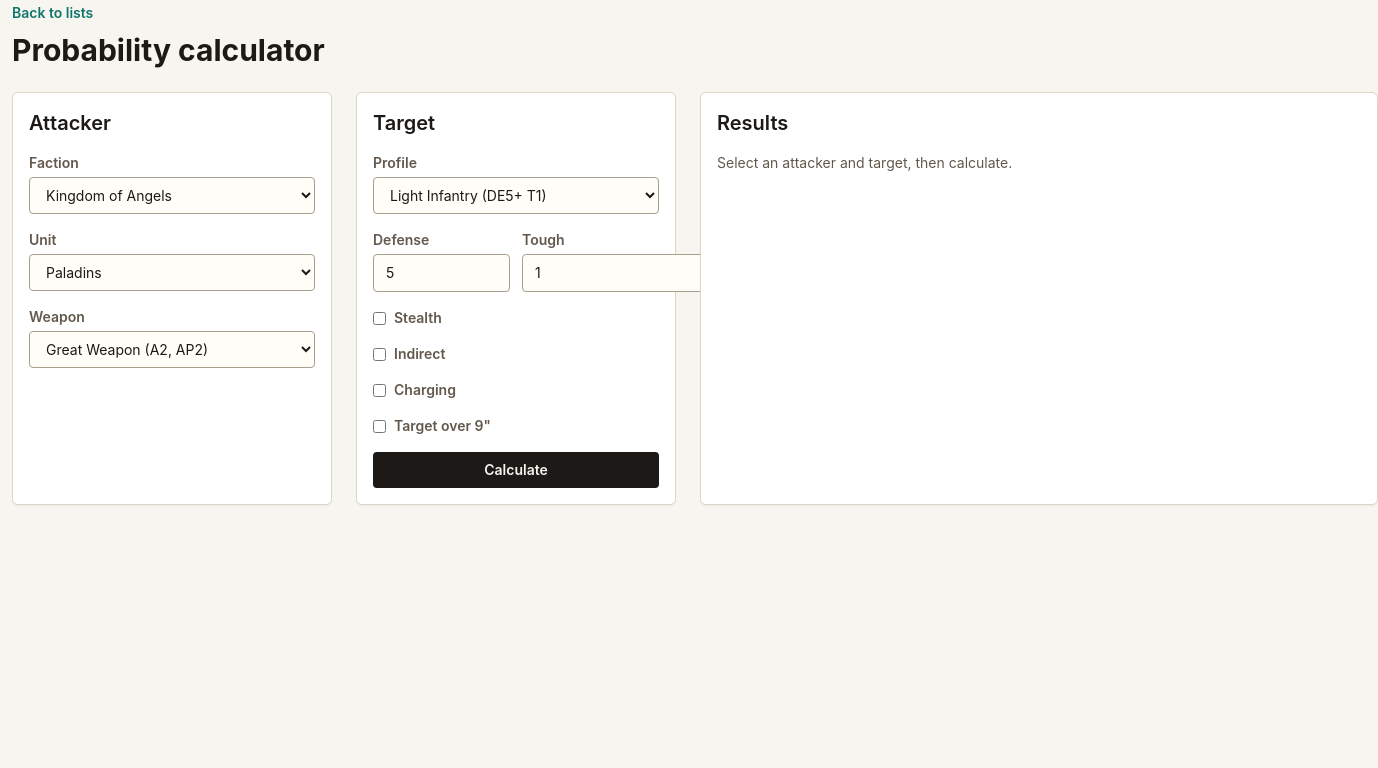
Scenario: CalcPage › calculates expected wounds for a selected attacker and target
Select "Kingdom of Angels" in the dropdown labelled "Faction" at {"x": 172, "y": 196}, box 29,177 -> 315,214
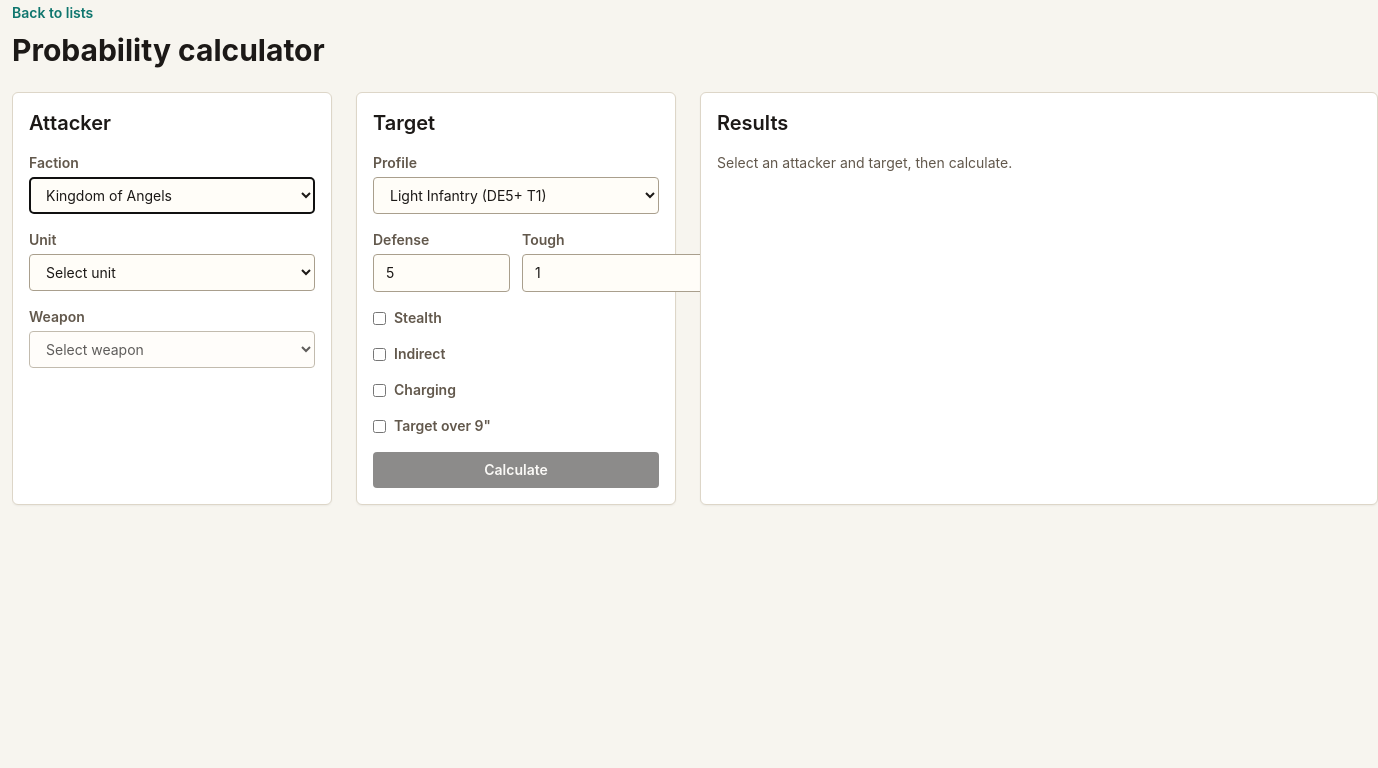
Select "Paladins" in the dropdown labelled "Unit" at {"x": 172, "y": 272}, box 29,254 -> 315,291
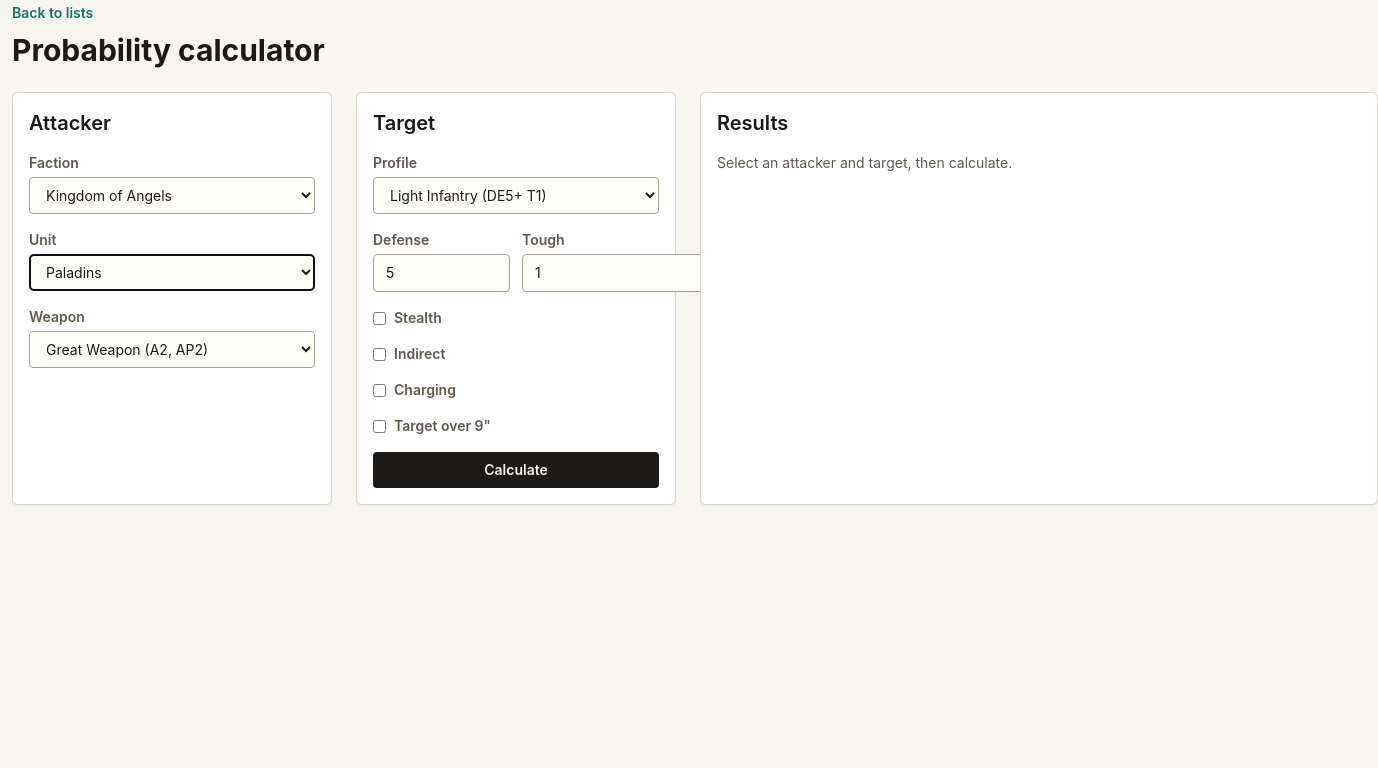
Select "Great Weapon (A2, AP2)" in the dropdown labelled "Weapon" at {"x": 172, "y": 350}, box 29,331 -> 315,368
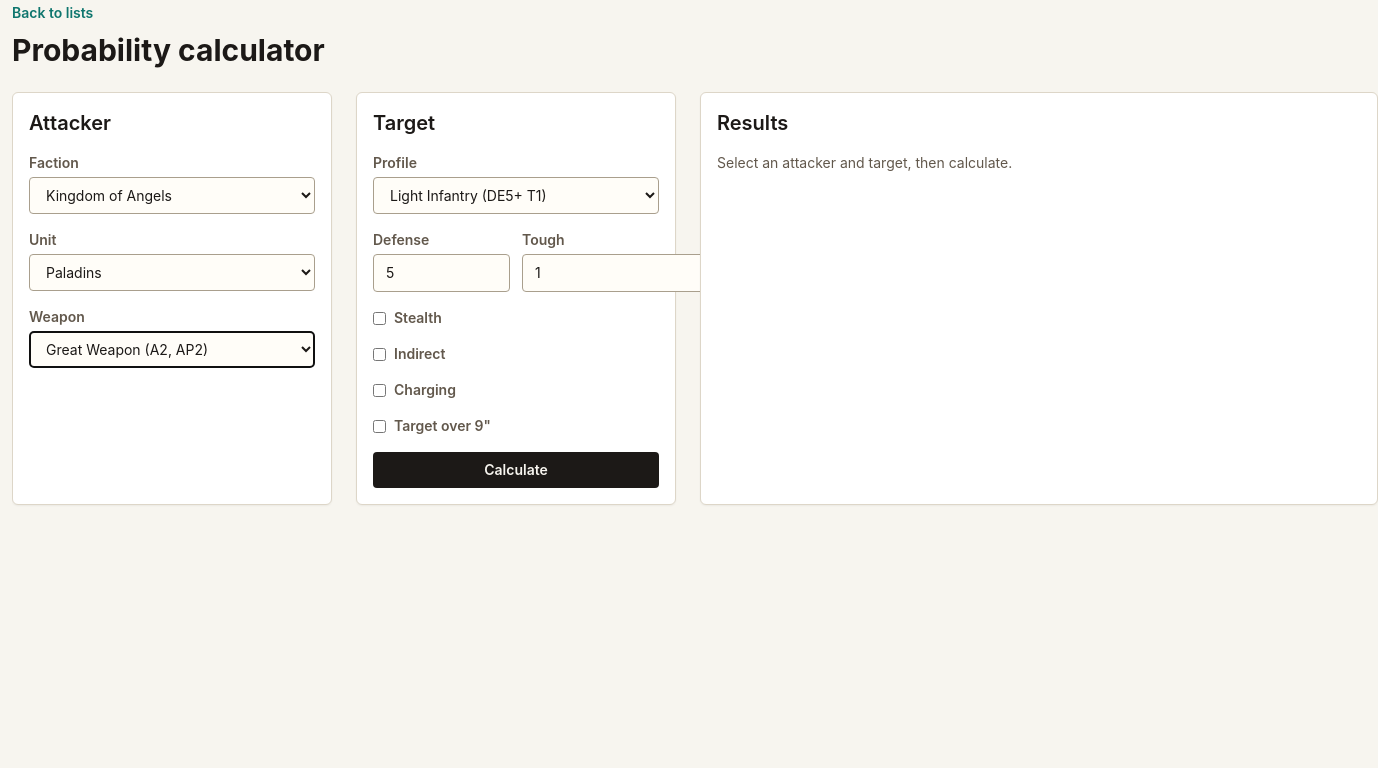
Click the button "Calculate" at {"x": 516, "y": 470}, box 373,452 -> 659,488
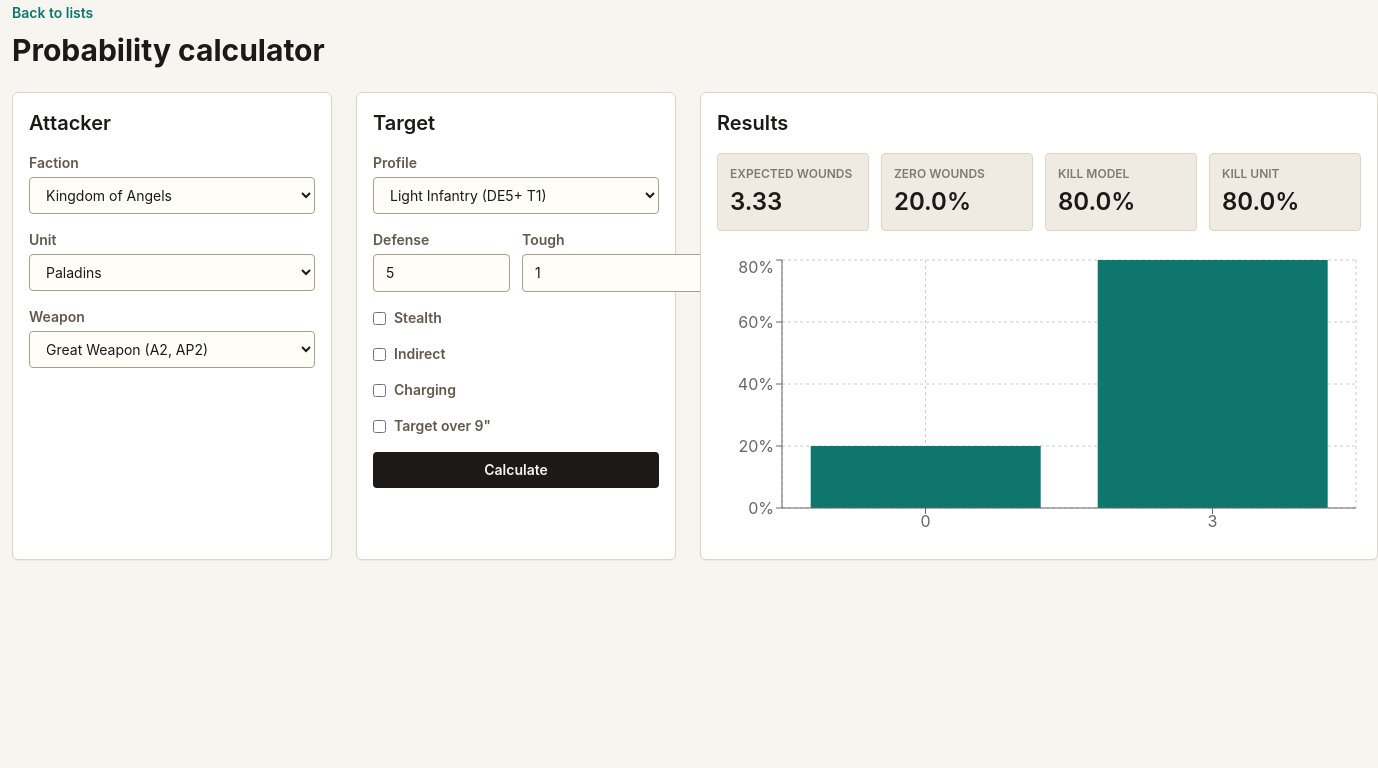
Expected: the text "3.33" is shown, 730,187 -> 782,216
Expected: the text "80.0%" is shown 2 times, 1058,187 -> 1136,216; 1222,187 -> 1300,216
Expected: the picture named "wound probability histogram" is shown, 717,255 -> 1361,543
